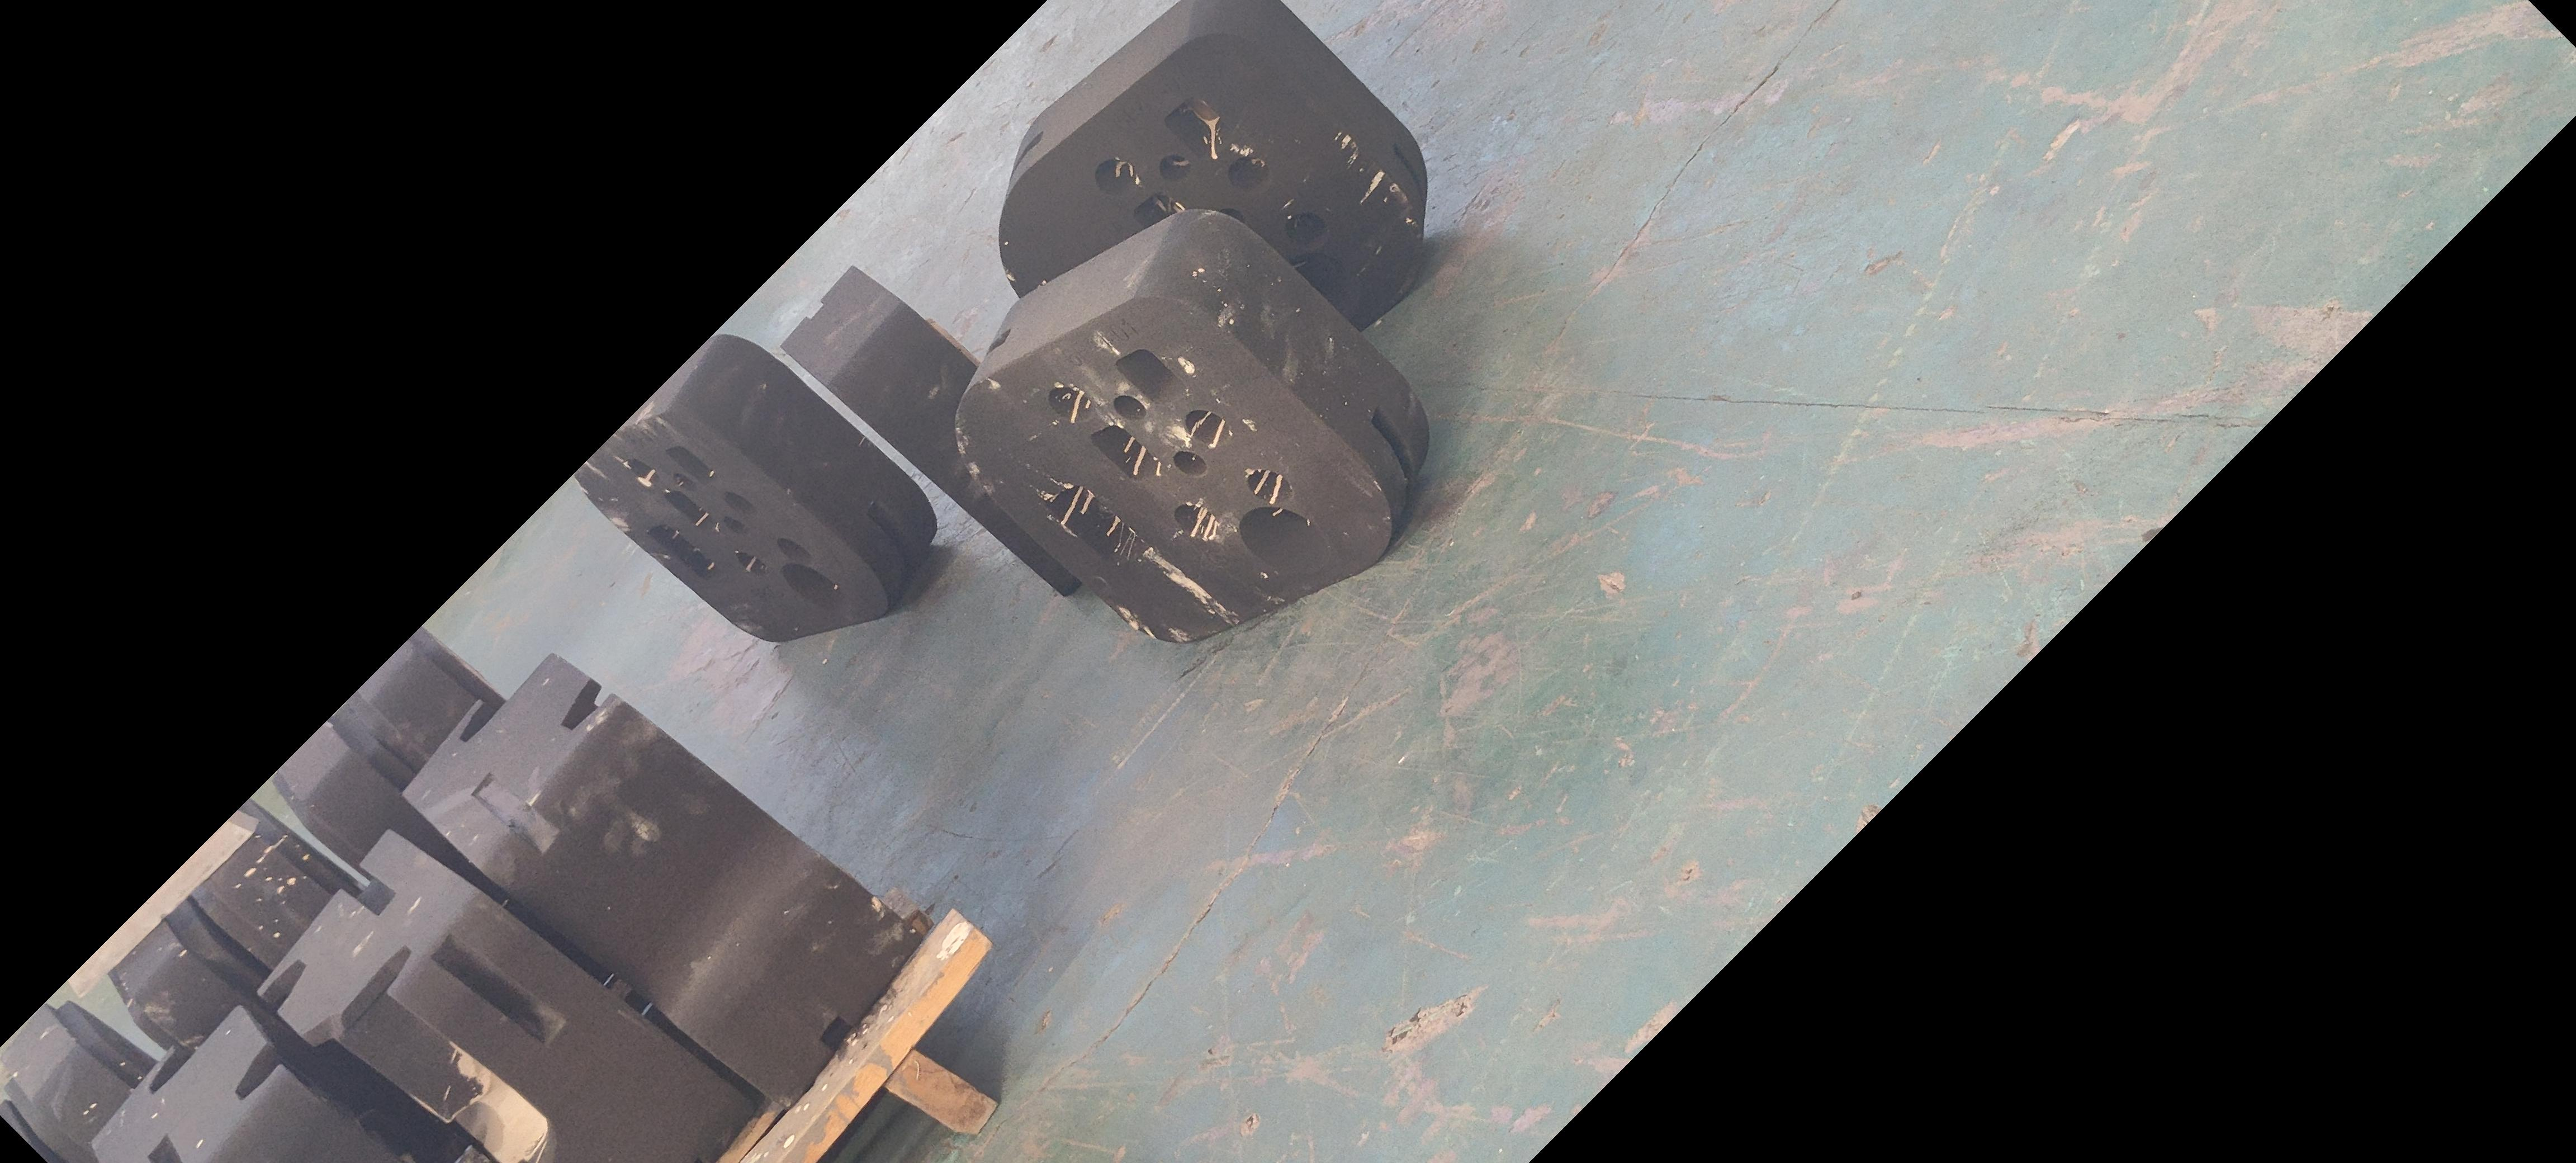pouring hole: (1240, 506, 1329, 575), (1280, 255, 1357, 322), (782, 563, 841, 611)
